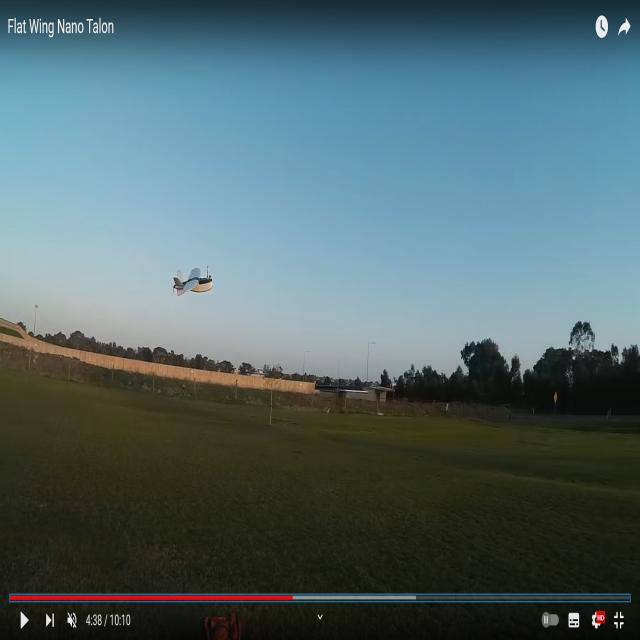iha: (174, 265, 214, 302)
